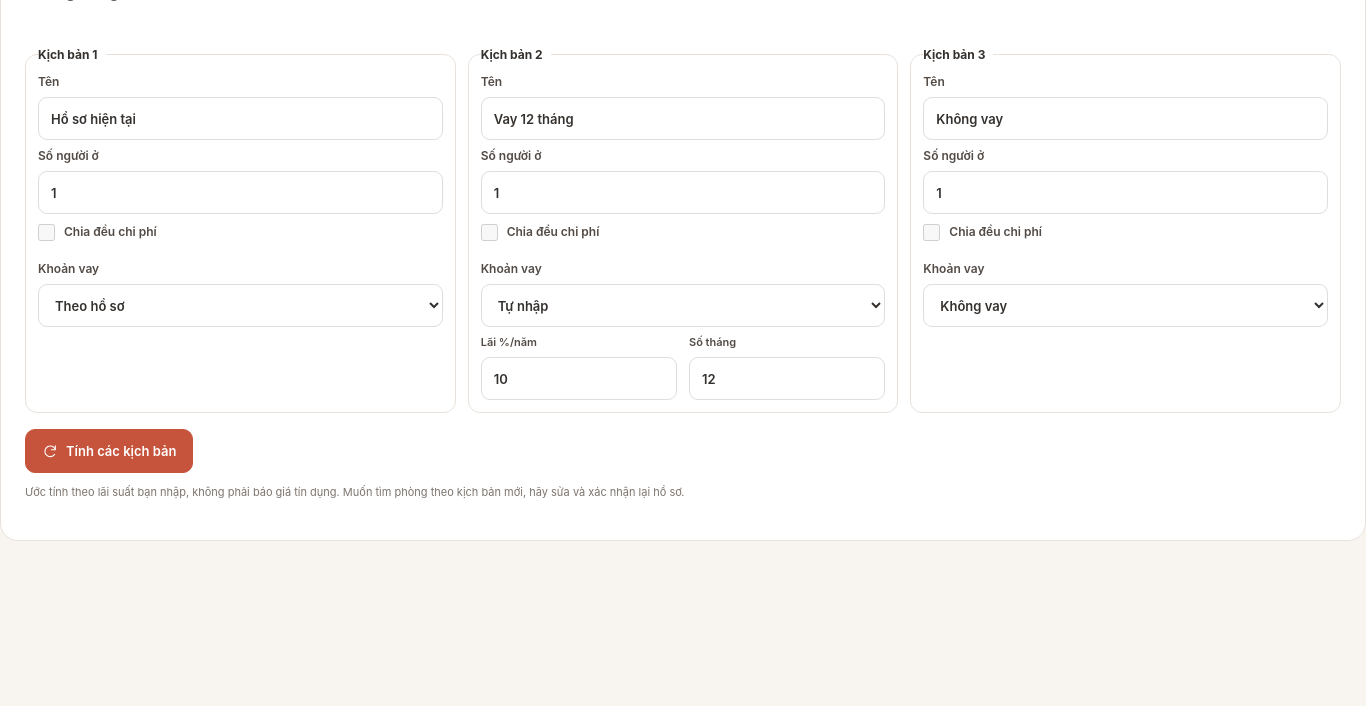
sends read-only what-if scenarios with explicit no-loan and custom loan
The image size is (1366, 706).
Click the button "Tính các kịch bản" at x=109, y=451, box [25, 429, 194, 473]
(page scrolled)
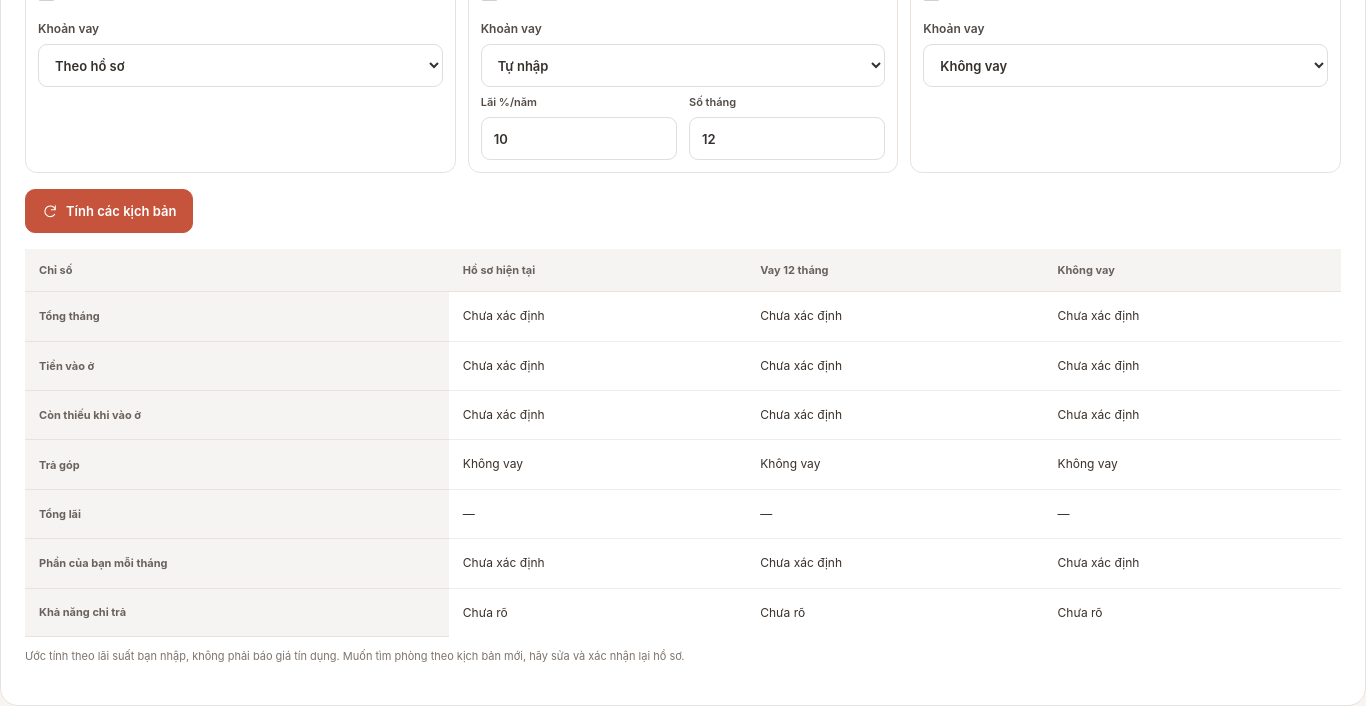
Result: the column heading "Vay 12 tháng" is shown at [746, 249, 1044, 292]
